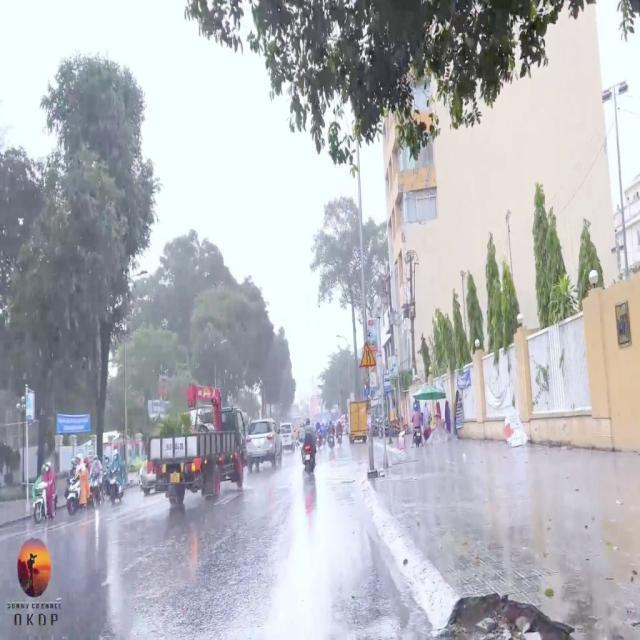203-duong-bi-hep: (357, 344, 377, 367)
